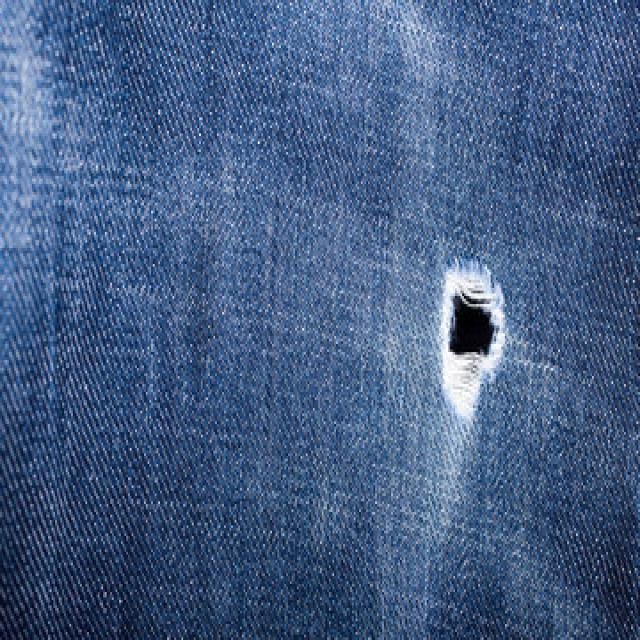Hole: (439, 260, 506, 422)
